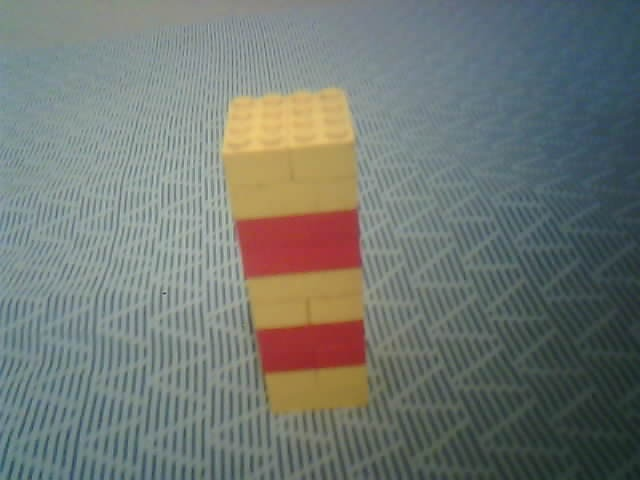lego: (220, 85, 374, 417)
